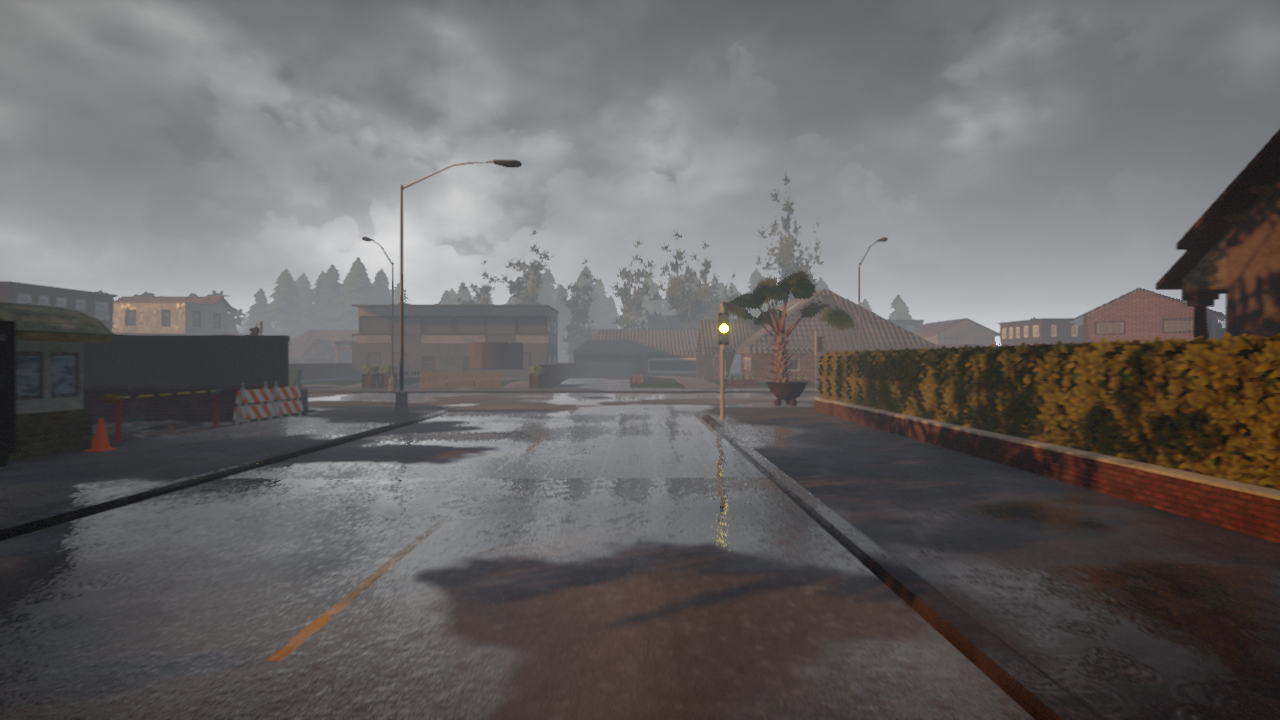yellow: (717, 312, 731, 346)
